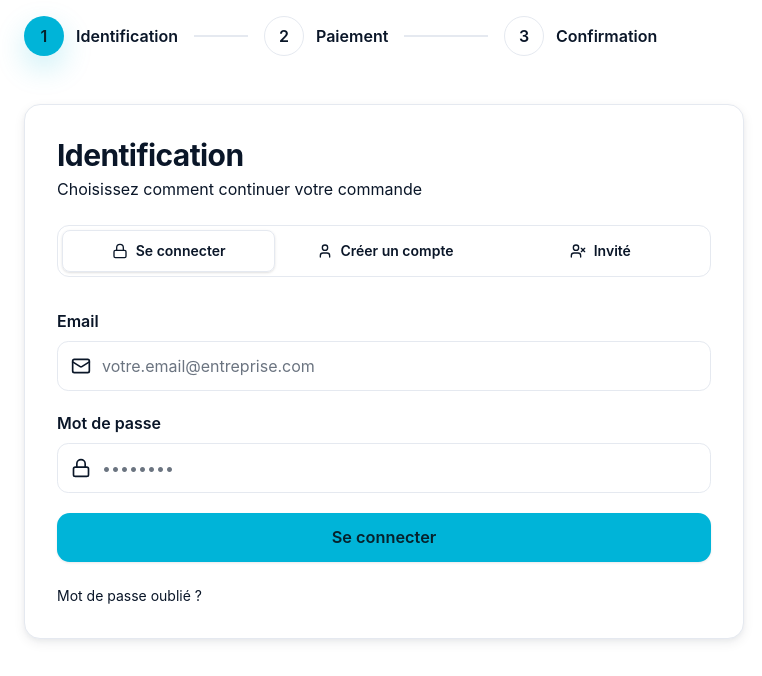
onglet invité › affiche le formulaire invité au clic sur l'onglet
The image size is (762, 676).
Click the button "Invité".
click(600, 251)  # box [495,230,706,272]
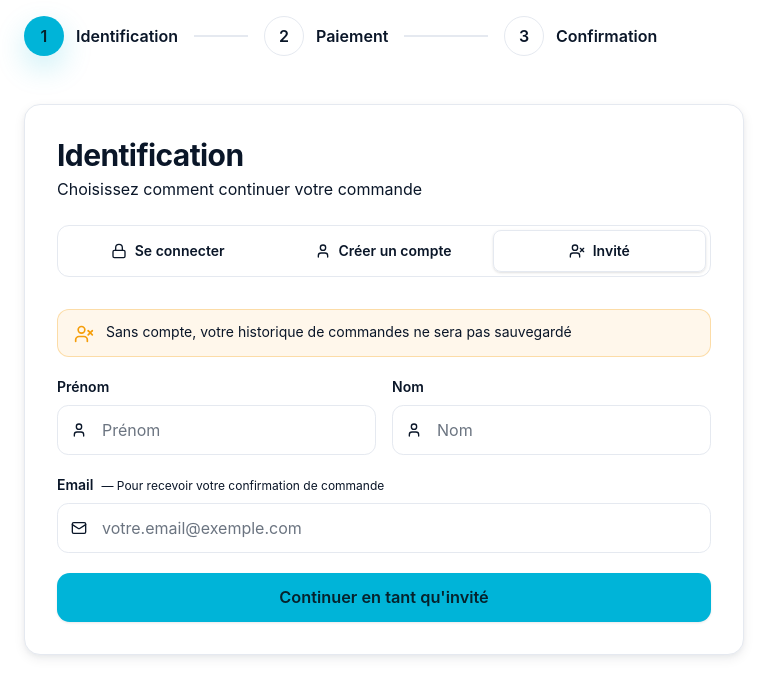
Result: the field with placeholder "votre.email@exemple.com" is shown at [57,503,711,553]
